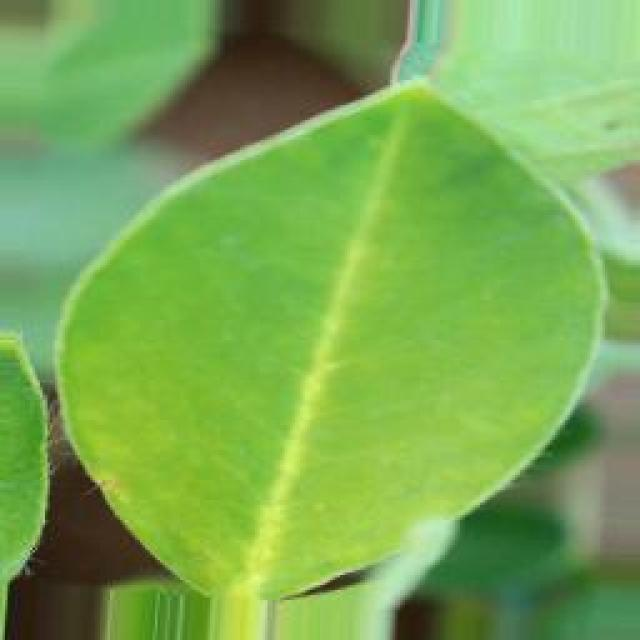Yellow_and_black_sigatoka: (50, 50, 605, 640)
